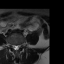CCS_normal: (15, 42, 17, 52)
LFS_normal: (19, 40, 22, 49)
LLS_normal: (17, 42, 19, 51)
RFS_normal: (11, 42, 13, 49)
RLS_normal: (13, 42, 15, 51)
